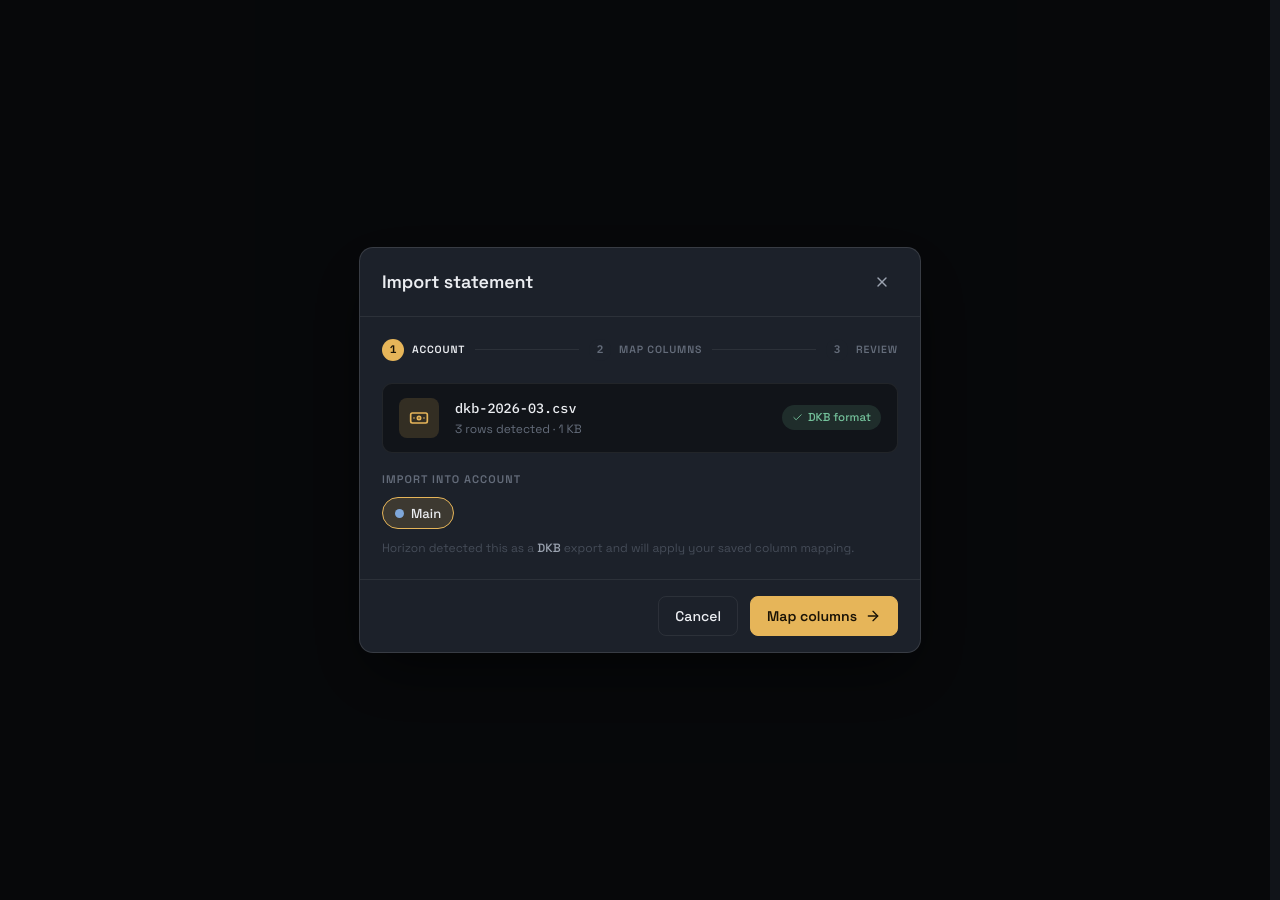
Test: ImportWizard — blocked-rows pill and Needs attention filter (#193) › counts and filters only included blocked rows — an excluded blank row is left out
Click the button "Map columns" at (824, 616), box [750,596,898,636]
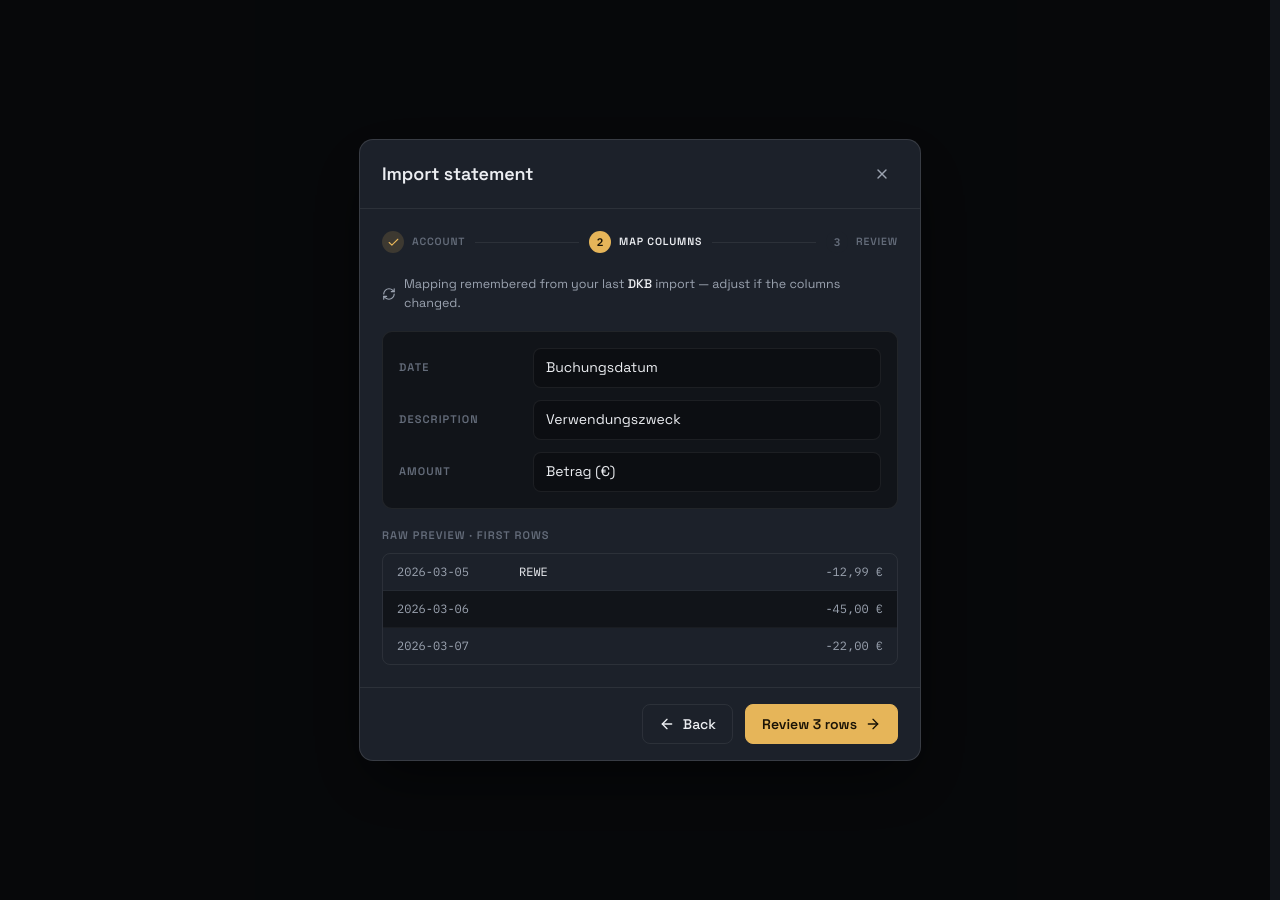
Click the button "Review 3 rows" at (822, 724), box [745,704,898,744]
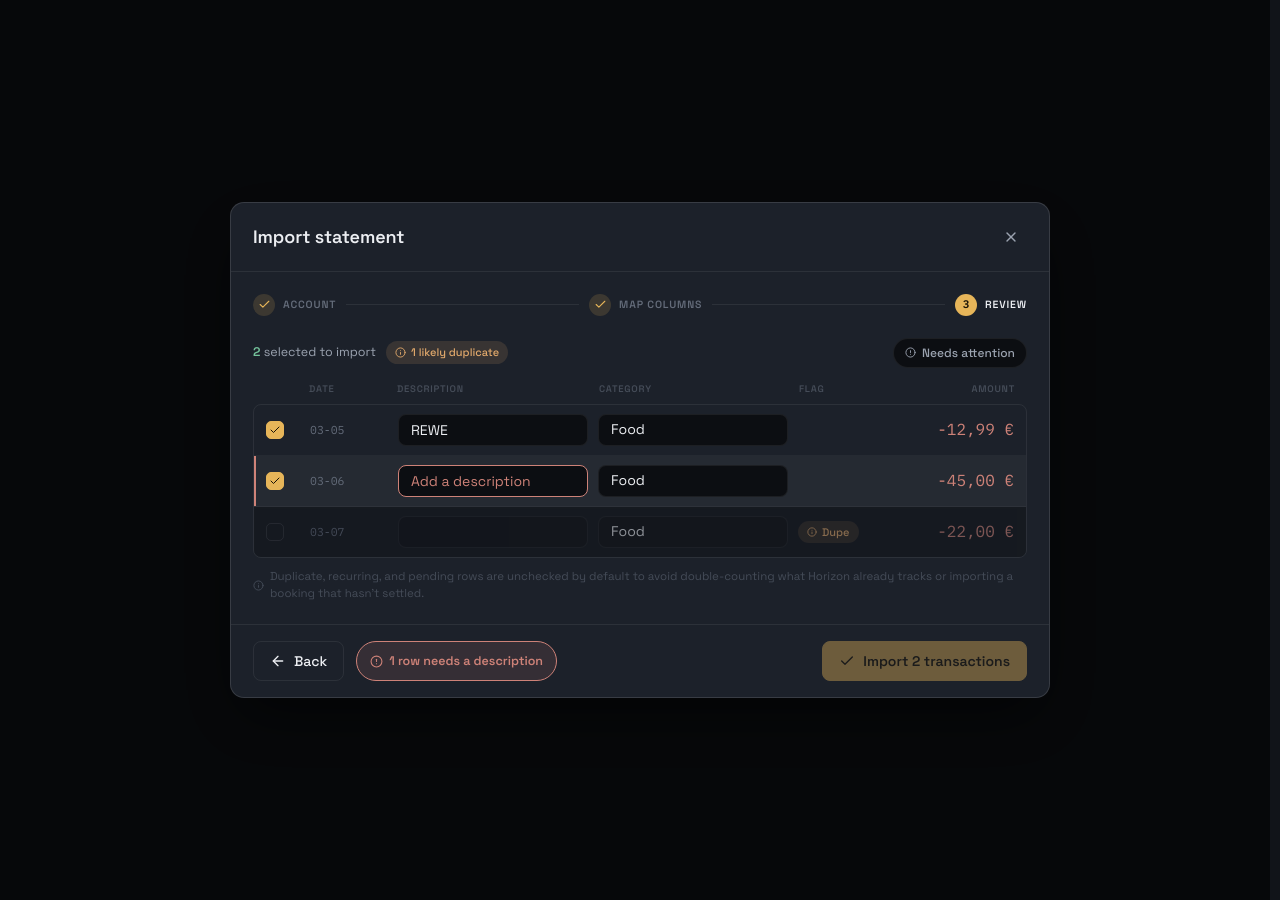
Expected: the button "1 row needs a description" is shown, [356,641,557,681]
Click the button "Needs attention" at (960, 353), box [893,338,1027,368]
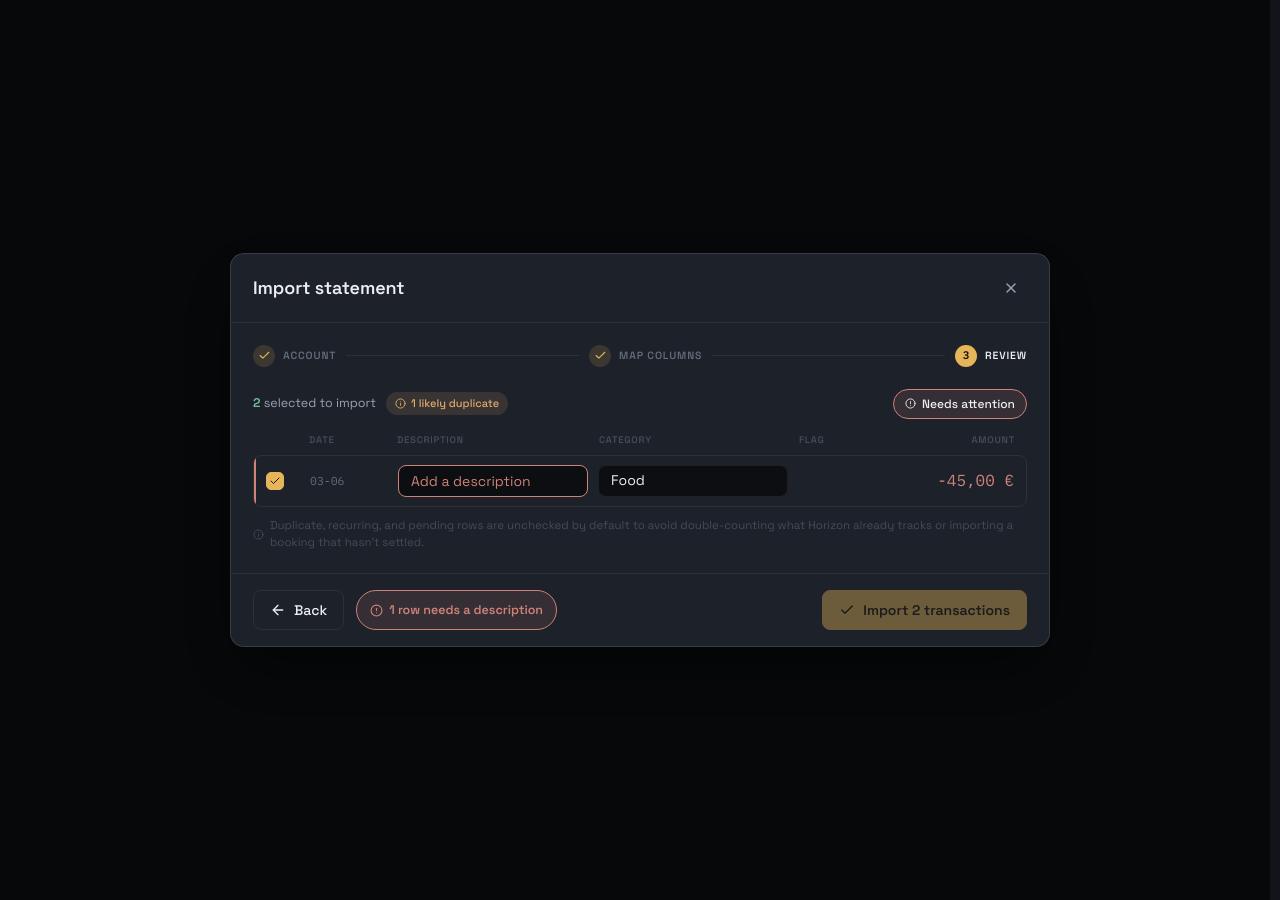
Expected: the field labelled "Add a description" is empty, [398,465,588,497]
Expected: the number of fields labelled "Add a description" is 1, [398,465,588,497]
